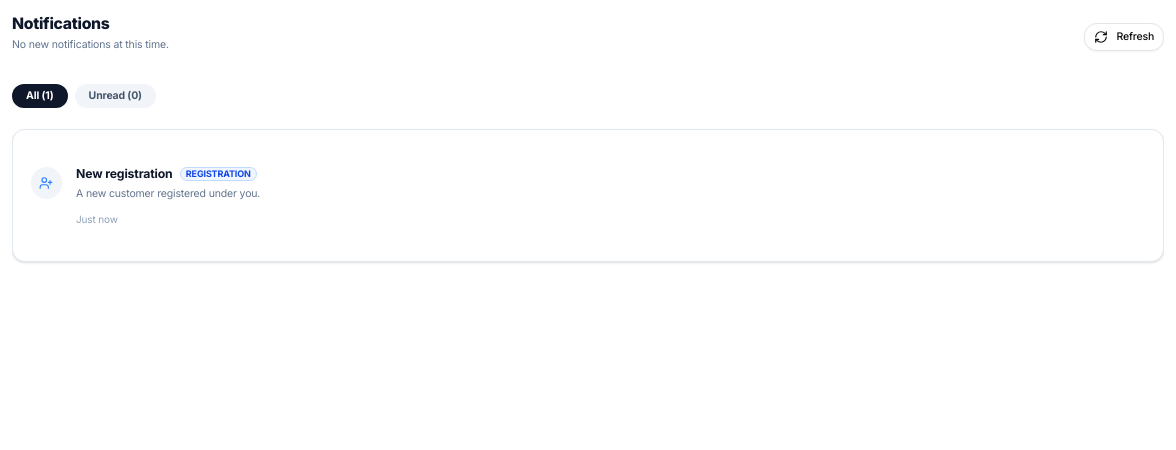
Test: AgentNotifications › shows the unread-specific empty message when every notification has been read
Click the button "Unread (0)" at (115, 96), box [75,84,156,108]
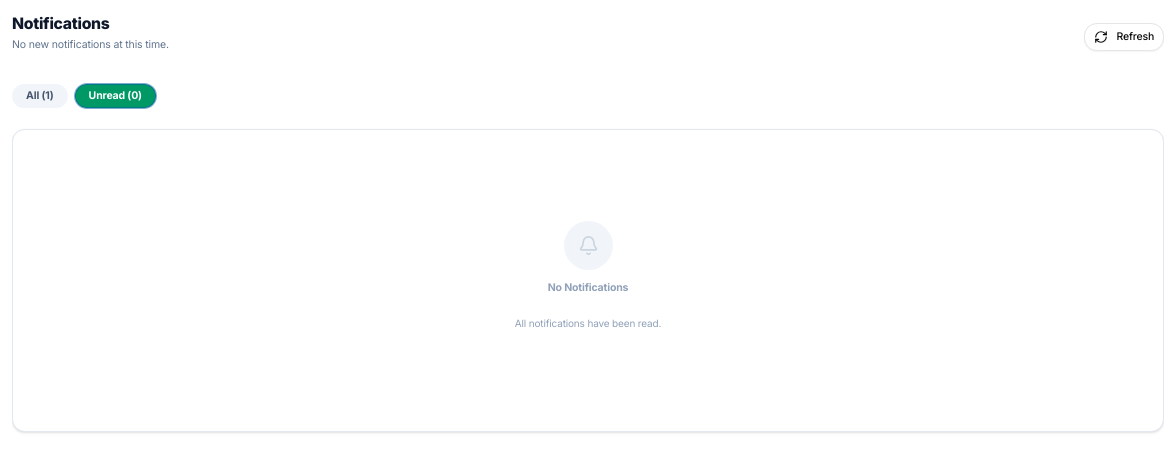
Expected: the text "All notifications have been read." is shown, [515,316,661,330]
